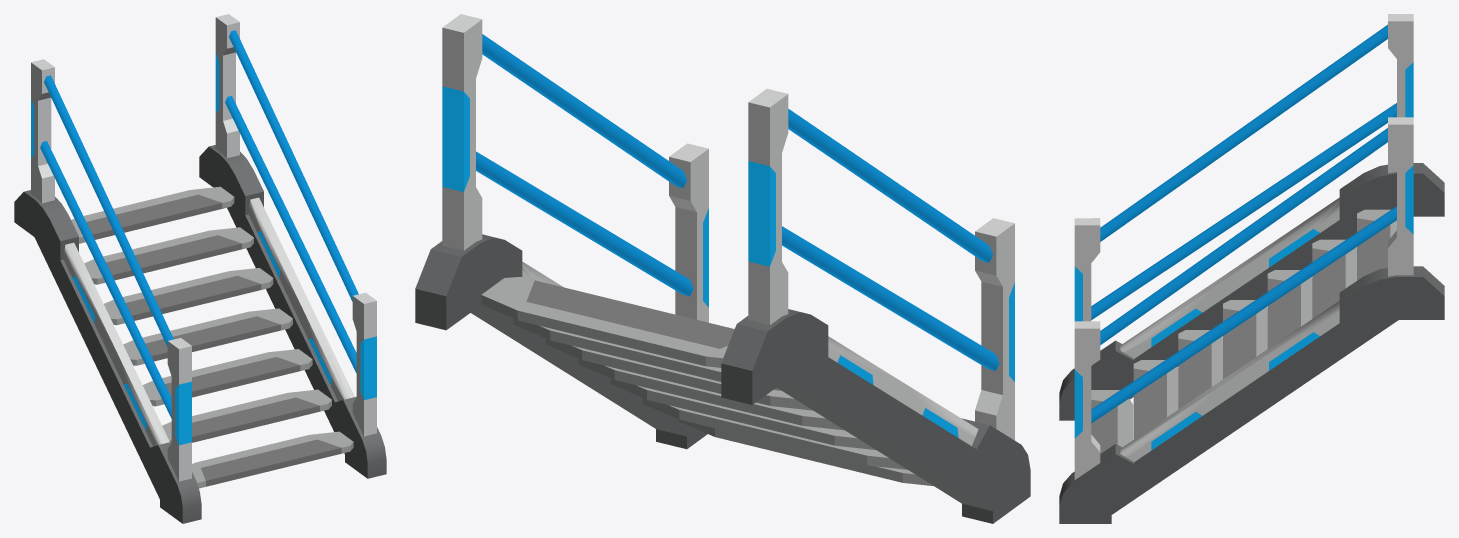
File: Stair_type_A_002.glb
3 renders of one model, left to right at view 1: azimuth 30°, elevation 25°; view 2: azimuth 150°, elevation 25°; view 3: azimuth 270°, elevation 25°, orthographic. The views are drawn at different scales.
Parts seen in each view (by area): view 1: Stair_type_A_fence_002, Stair_type_A_002; view 2: Stair_type_A_fence_002, Stair_type_A_002; view 3: Stair_type_A_fence_002, Stair_type_A_002.
Part boxes in pixels (<box>): Stair_type_A_fence_002: <box>14,14,386,523</box>; Stair_type_A_002: <box>71,186,353,488</box>; Stair_type_A_fence_002: <box>415,14,1030,523</box>; Stair_type_A_002: <box>481,277,933,486</box>; Stair_type_A_fence_002: <box>1059,14,1444,523</box>; Stair_type_A_002: <box>1091,209,1396,453</box>.
Size of the model in its own units: 1.79 by 2.92 by 2.57.
Materials: 2 (2 with a texture image).
